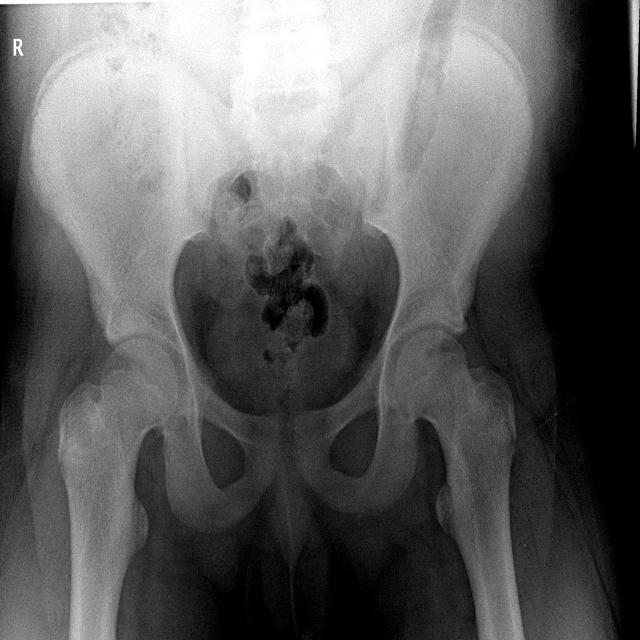normal-left: (395, 329, 525, 640)
normal-right: (58, 337, 177, 640)
